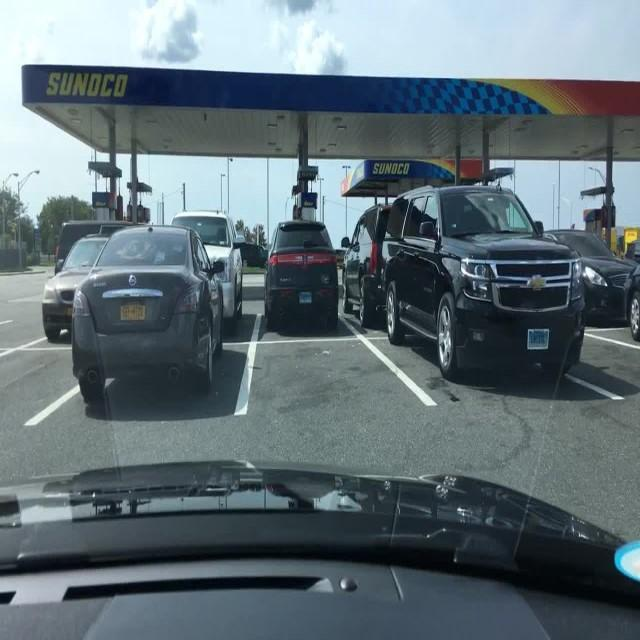normal: (341, 180, 589, 386), (70, 229, 227, 411), (243, 206, 358, 353), (542, 230, 639, 341), (171, 214, 247, 330), (41, 230, 116, 343)
